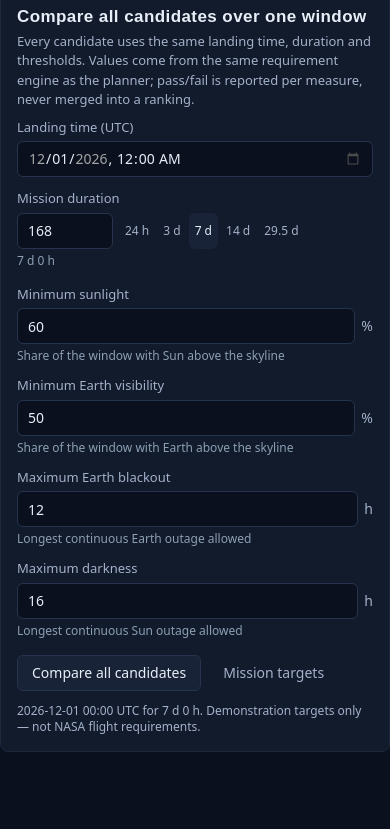
Test: CandidateComparison › shows UNDECIDED when a requirement cannot be evaluated and never counts it as a pass
Click the button "Compare all candidates" at (109, 672), box 17,654 -> 201,690
(page scrolled)
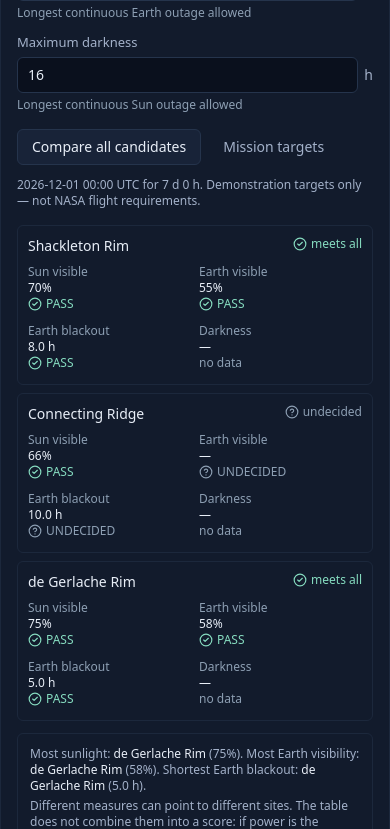
Check: the text "Shackleton Rim" is shown, box 28,236 -> 129,256
Check: the 1st text "UNDECIDED" is shown, box 199,464 -> 286,480
Check: the text "undecided" is shown, box 285,404 -> 362,420
